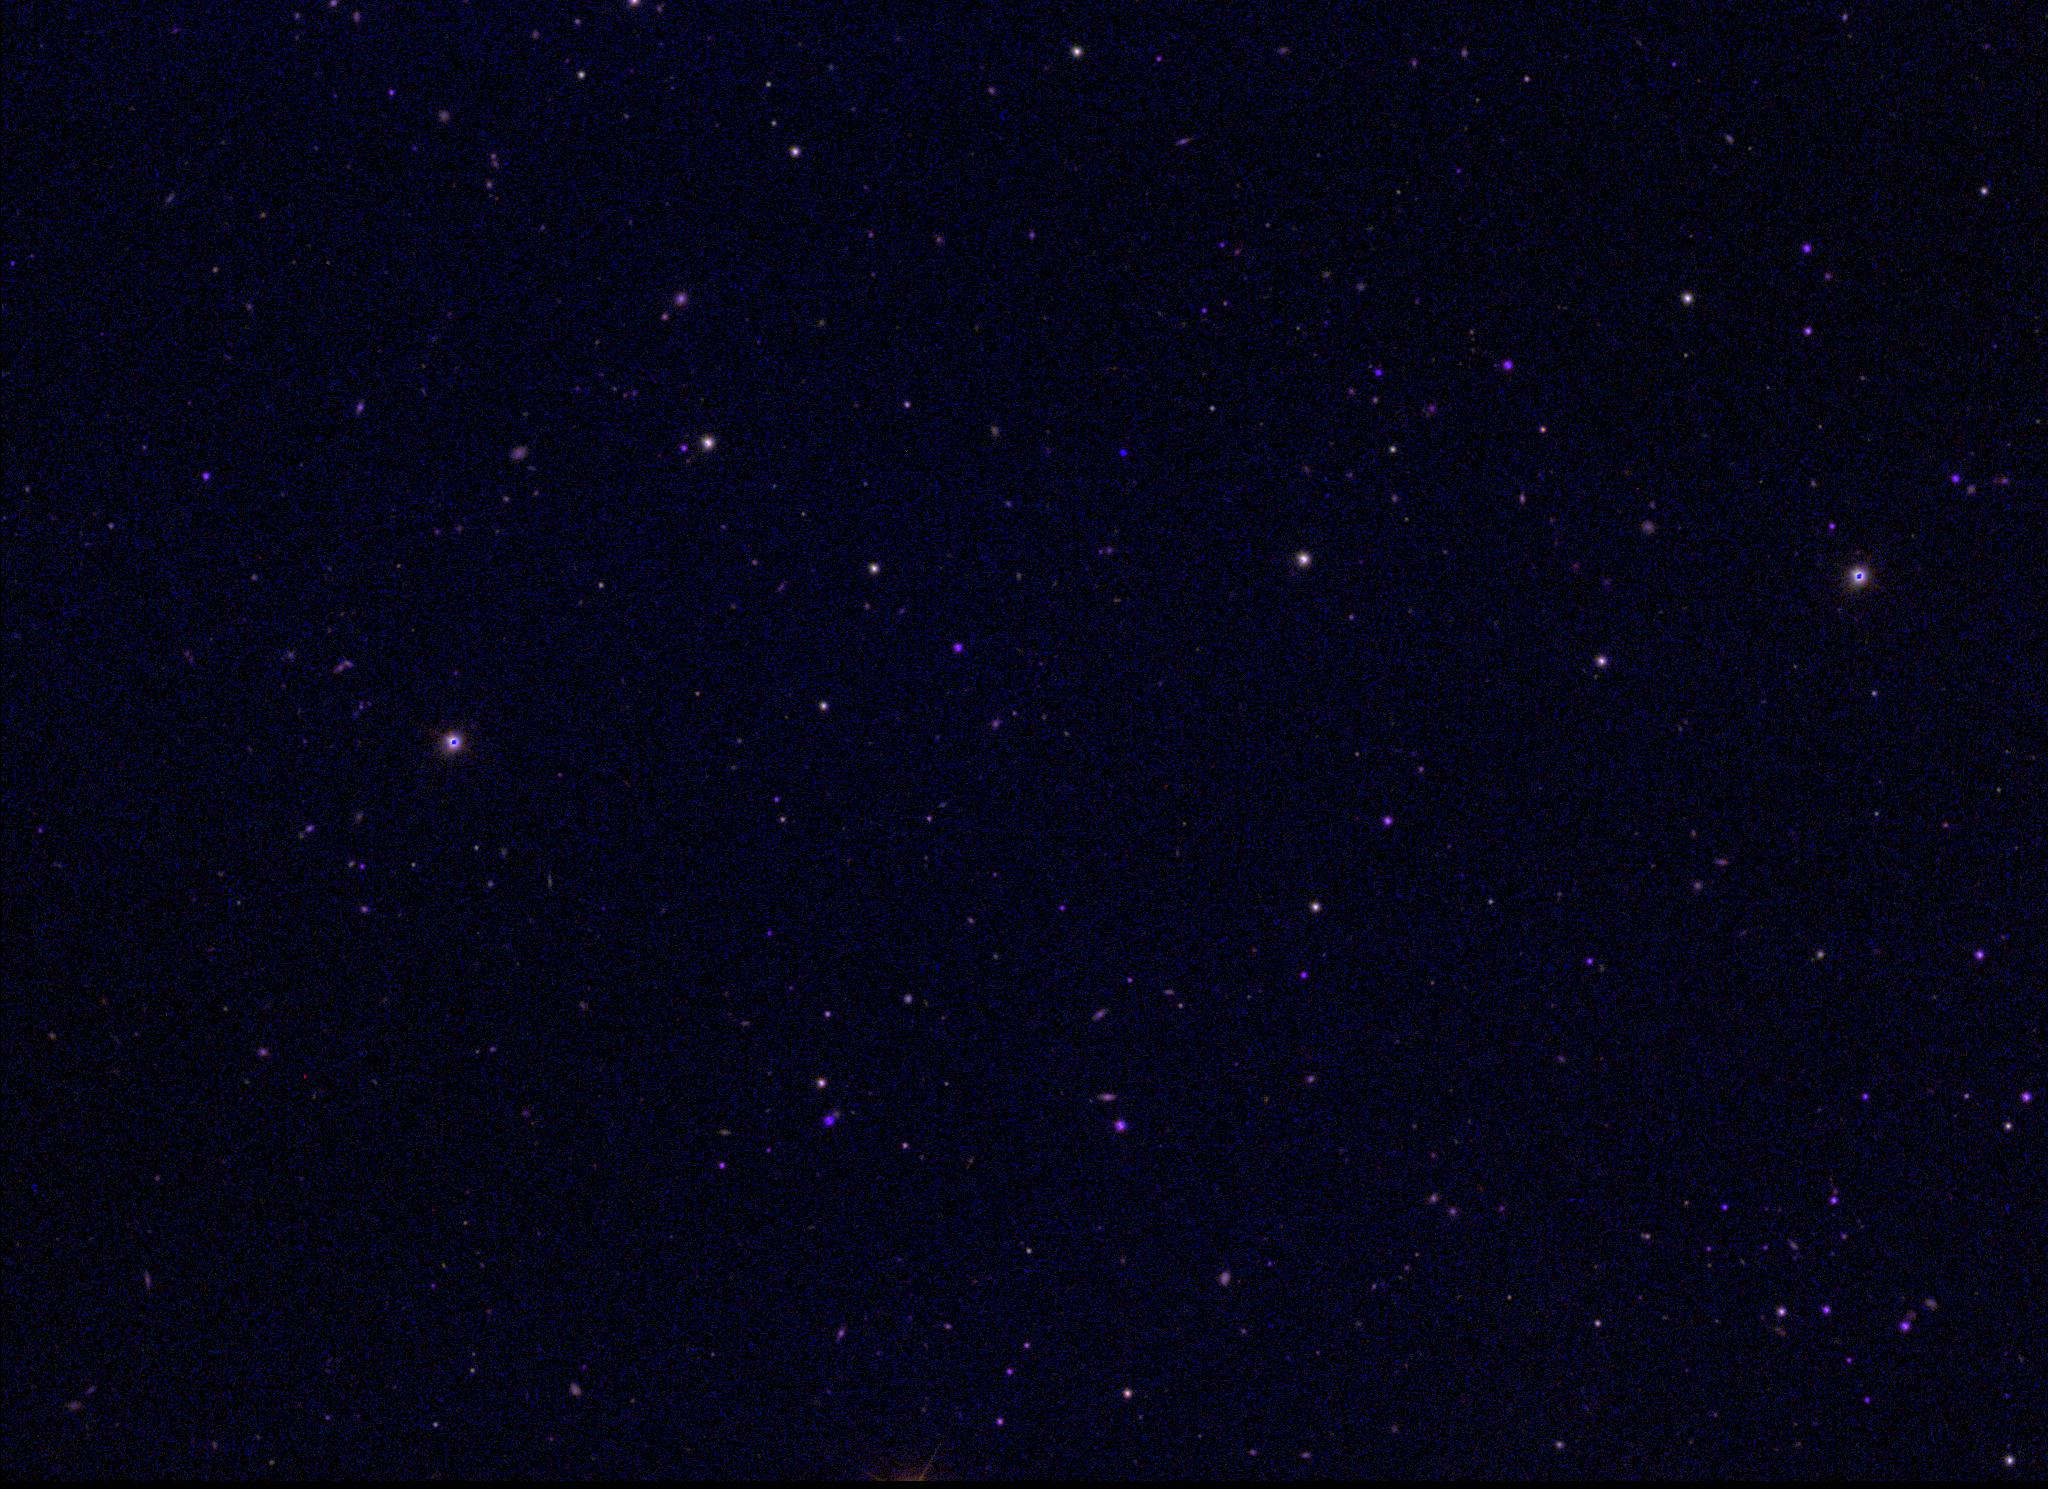L: (1116, 444, 1131, 458)
